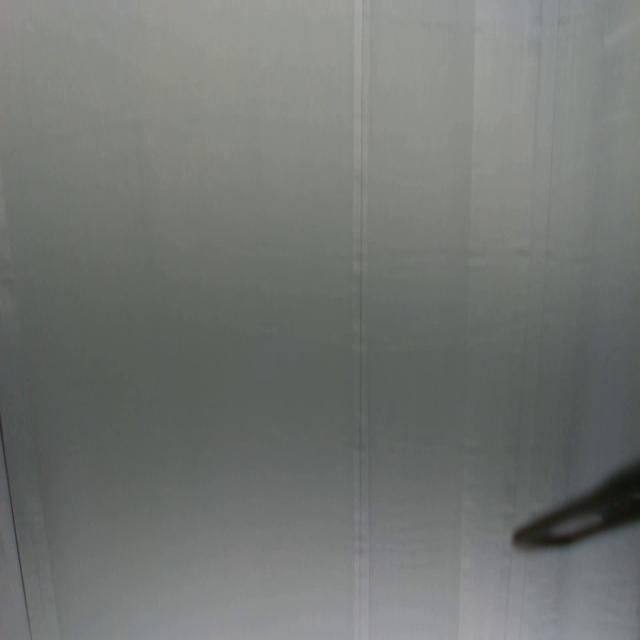crease: (537, 5, 566, 383), (354, 0, 370, 635), (0, 415, 35, 640)
